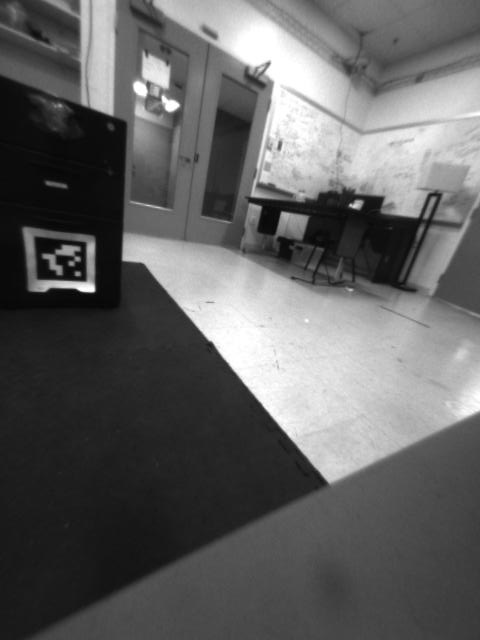door_handle: (171, 150, 193, 171)
drawer: (12, 91, 91, 164)
